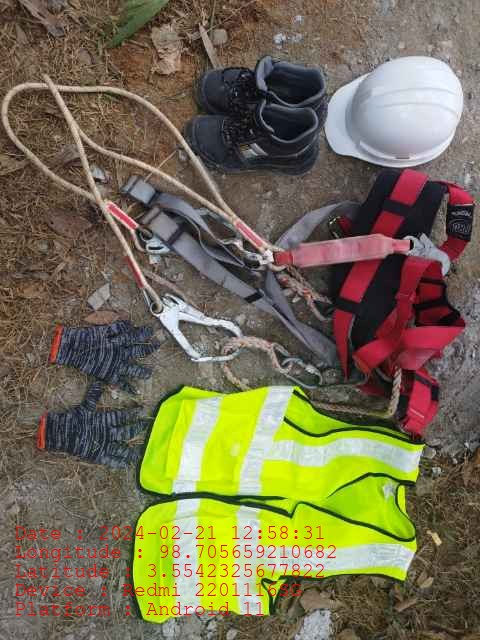HELM: (326, 55, 457, 163)
